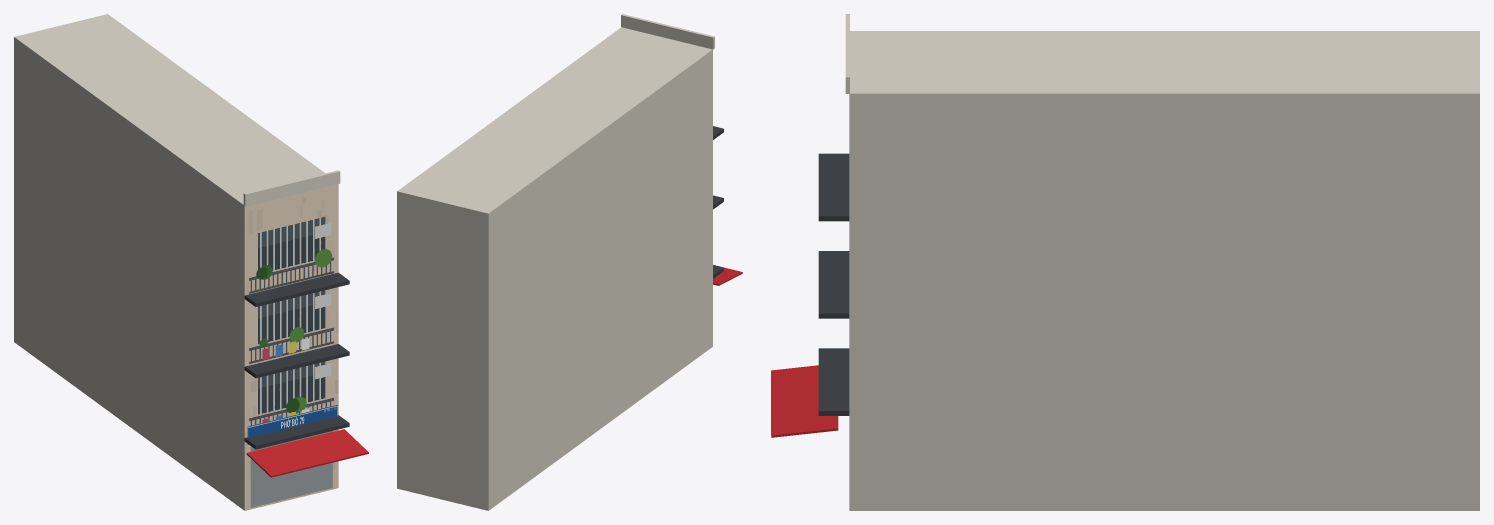
File: tube_house_a.glb
3 renders of one model, left to right at view 1: azimuth 30°, elevation 25°; view 2: azimuth 150°, elevation 25°; view 3: azimuth 270°, elevation 25°, orthographic. The views are drawn at different scales.
Visible parts, largest first — view 1: tubehouse; view 2: tubehouse; view 3: tubehouse.
Boxes of the visible parts, x1,y1,x2,y2 form: tubehouse: (14, 14, 368, 510); tubehouse: (397, 14, 742, 510); tubehouse: (771, 14, 1479, 510).
Size of the model in its own units: 5.03 by 15.6 by 23.08.
Materials: 5 (2 with a texture image).
